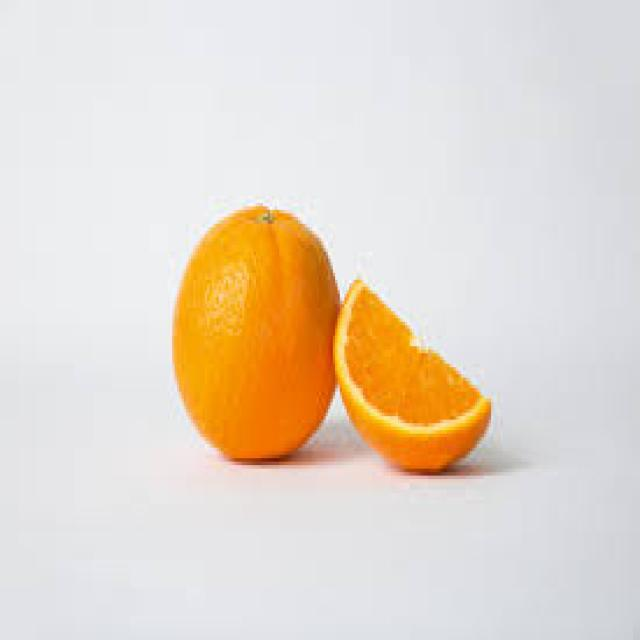orange: (166, 197, 336, 462)
